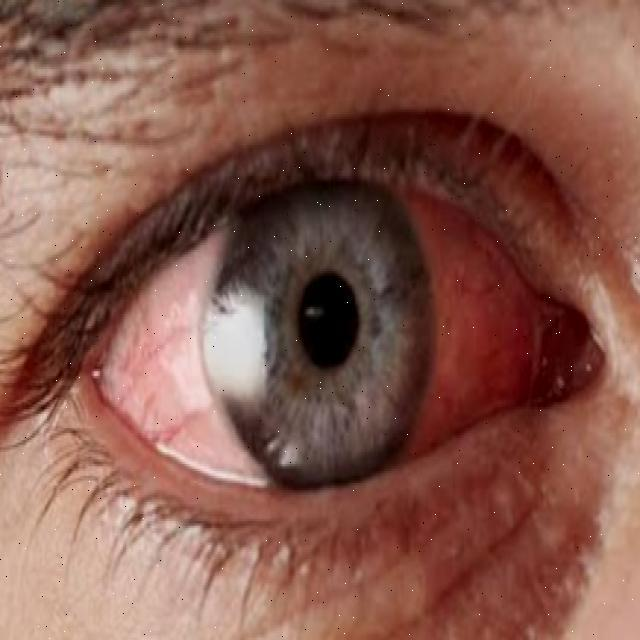Conjunctivitis: (43, 194, 608, 486)
